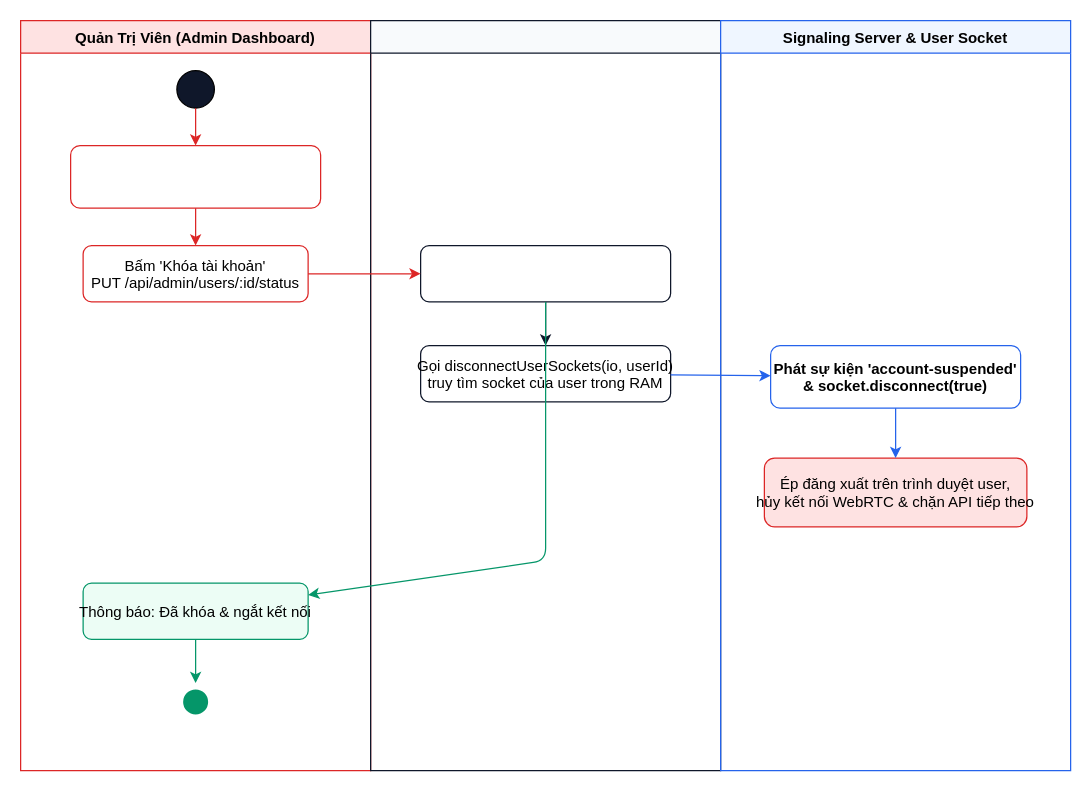
The diagram is 1091 pixels wide and 791 high, and some of its shapes have lost their labels. The box of each missing label's shape, as (x1, y1, x2, y2) in pixels:
Cập nhật users SET status='SUSPENDED' trong CSDL MySQL: (419, 244, 671, 302)
Máy Chủ Backend & DB: (369, 19, 721, 771)
Xem danh sách người dùng vi phạm trong Tab 'Quản lý Người Dùng': (69, 144, 321, 208)
